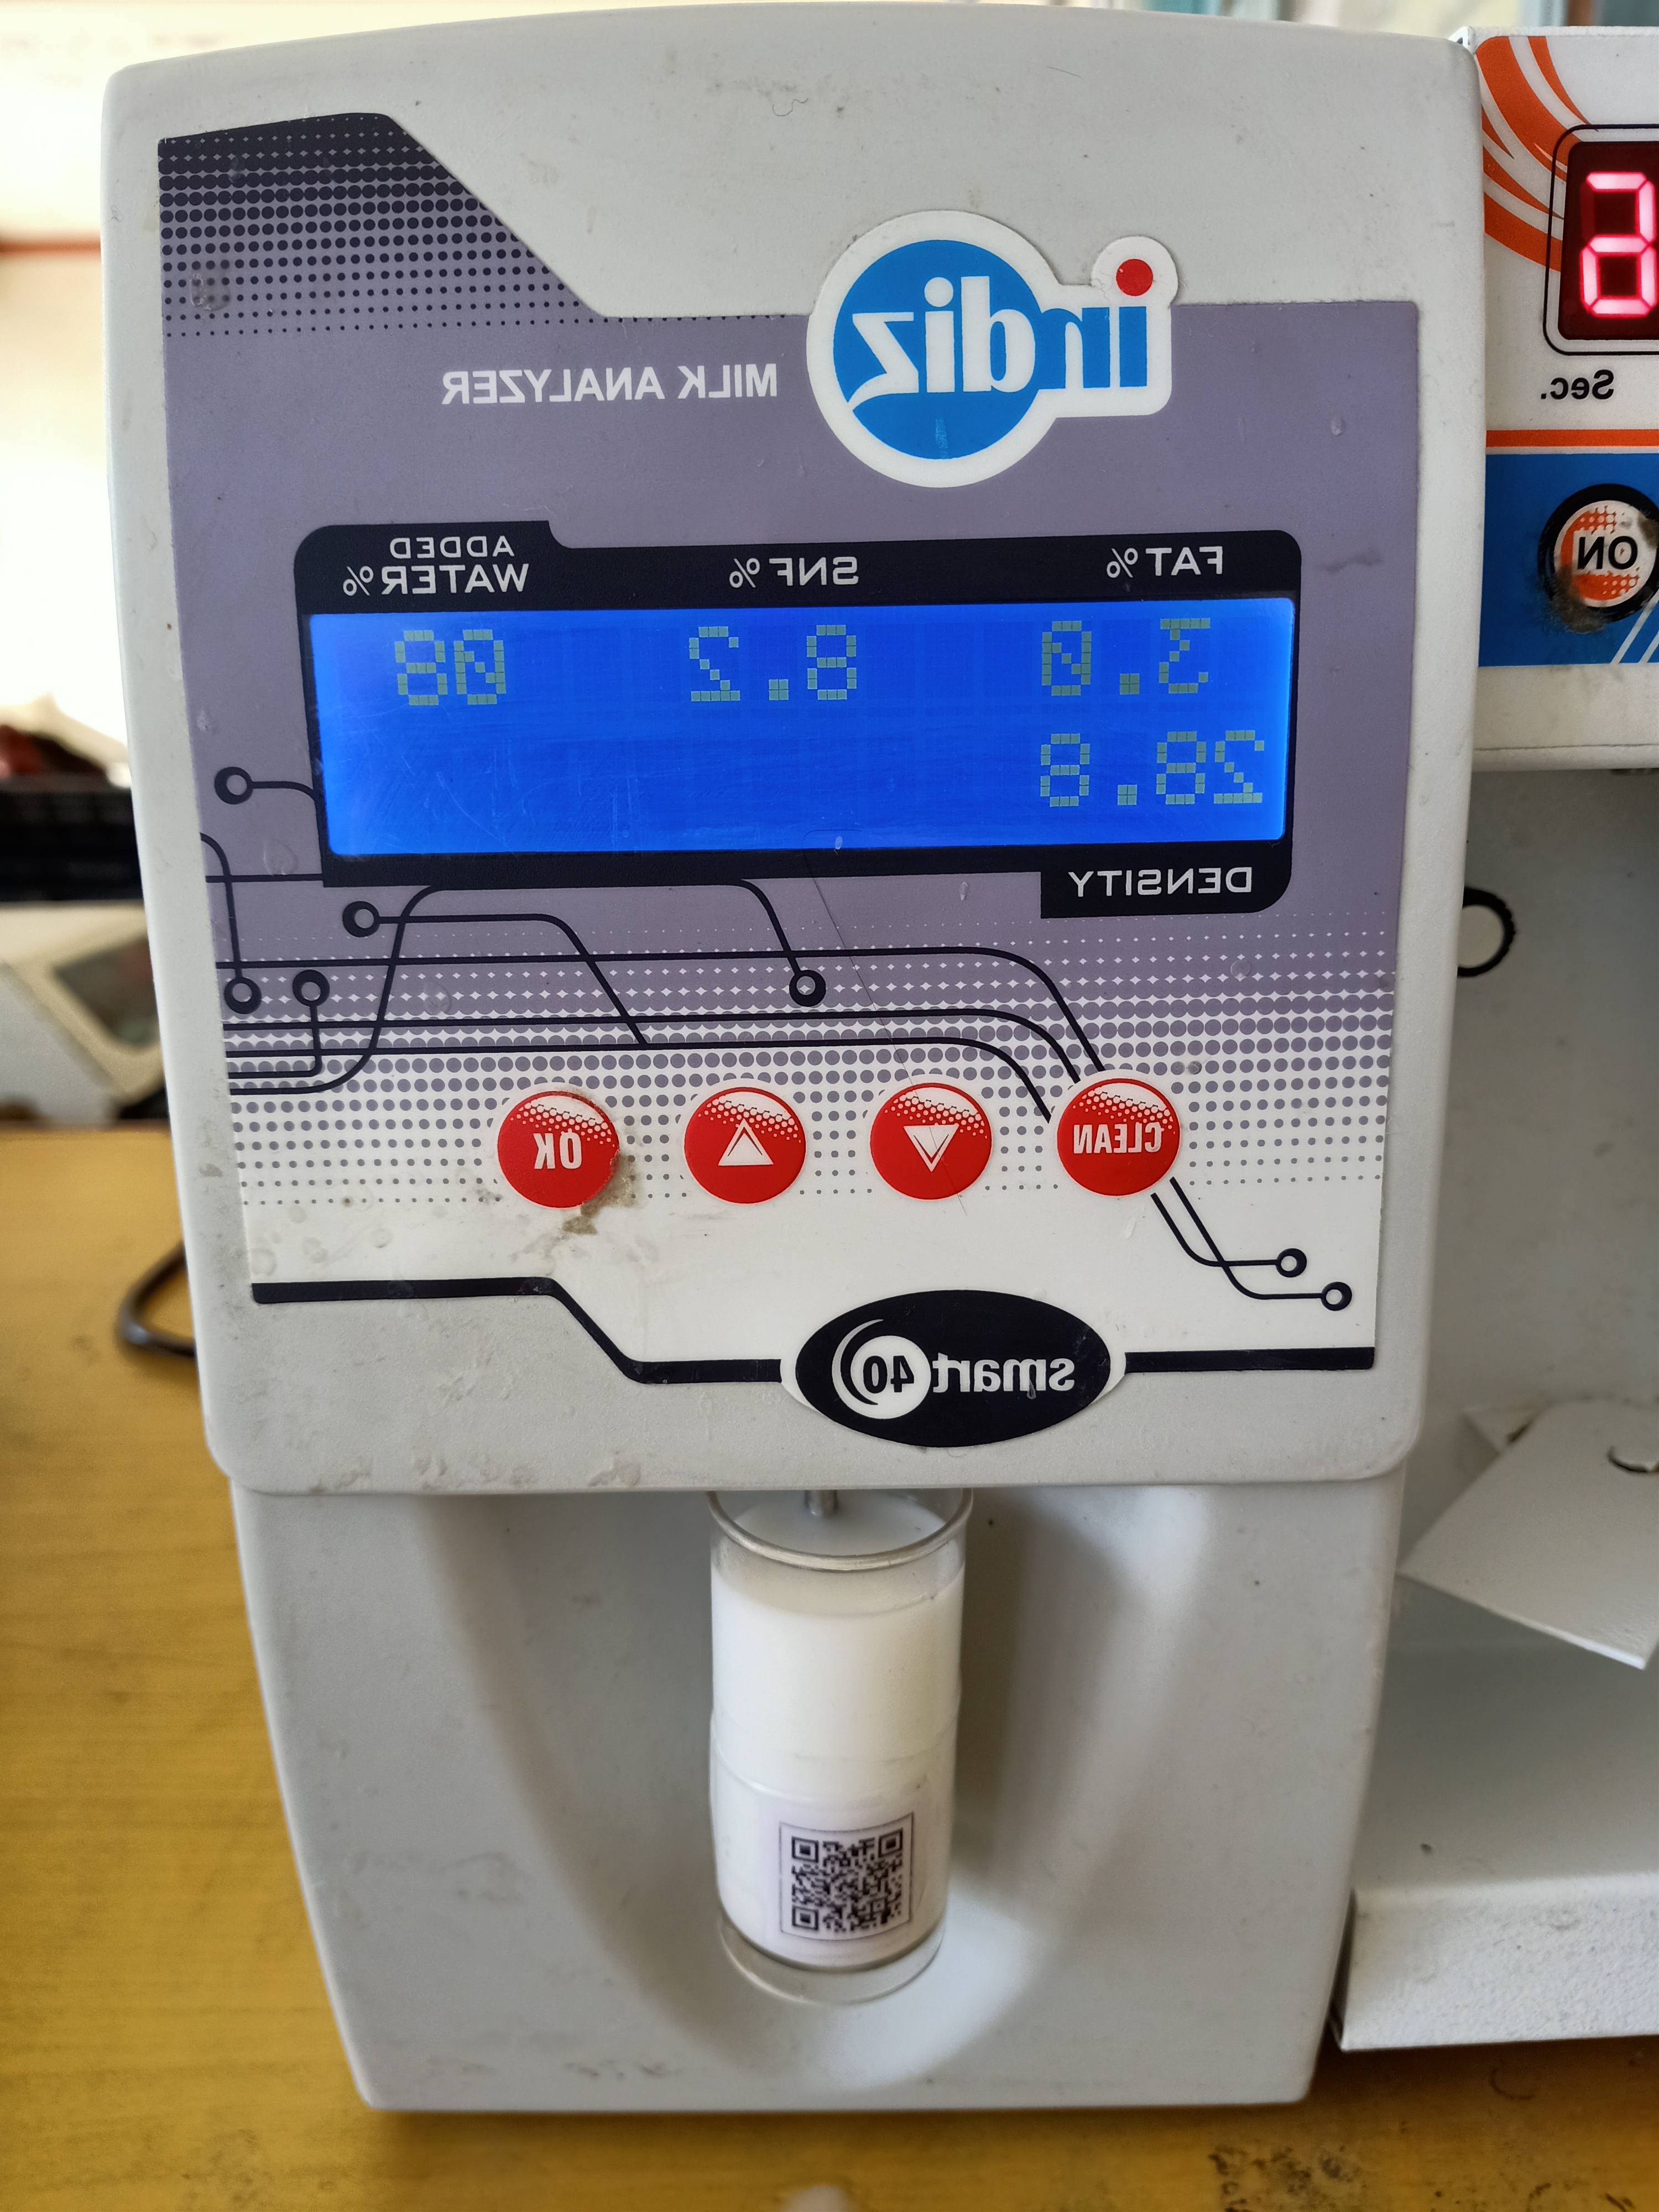lcd: (295, 556, 1319, 920)
qr: (782, 1808, 917, 1966)
